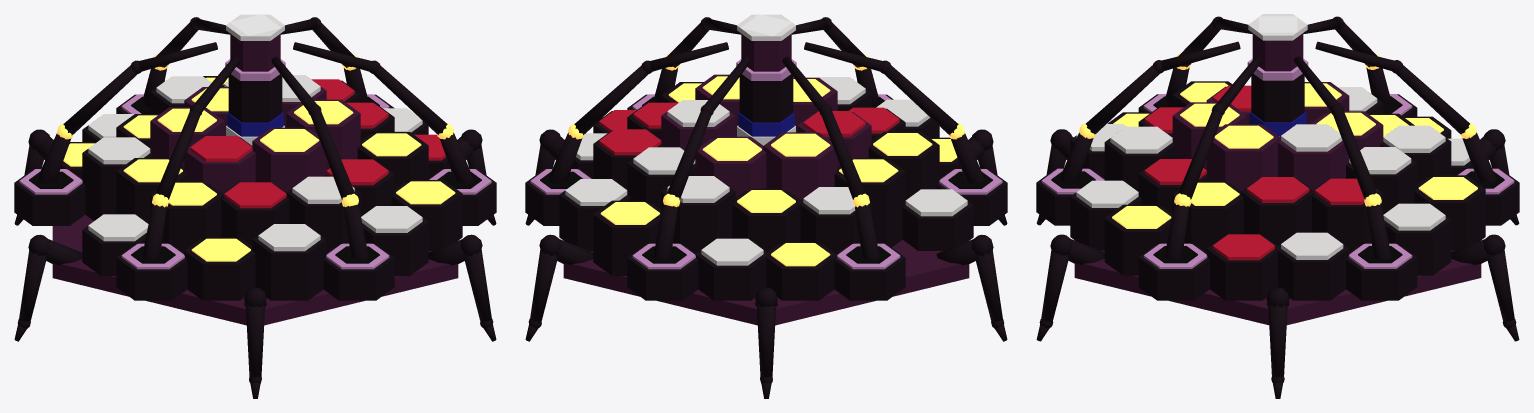
The model's file is Grix_Skladiste.fbx.
3 views of the same model, side by side, from view 1: azimuth 30°, elevation 25°; view 2: azimuth 150°, elevation 25°; view 3: azimuth 270°, elevation 25° (orthographic).
Parts seen in each view (by area): view 1: Hive, Flag.001; view 2: Hive, Flag.001; view 3: Hive, Flag.001.
Part boxes in pixels (bbox=[...]): Hive: bbox=[14, 14, 496, 398]; Flag.001: bbox=[229, 14, 281, 35]; Hive: bbox=[525, 14, 1007, 398]; Flag.001: bbox=[740, 14, 792, 35]; Hive: bbox=[1036, 14, 1519, 398]; Flag.001: bbox=[1258, 16, 1297, 32].
Size of the model in its own units: 18.74 by 9.61 by 16.27.
